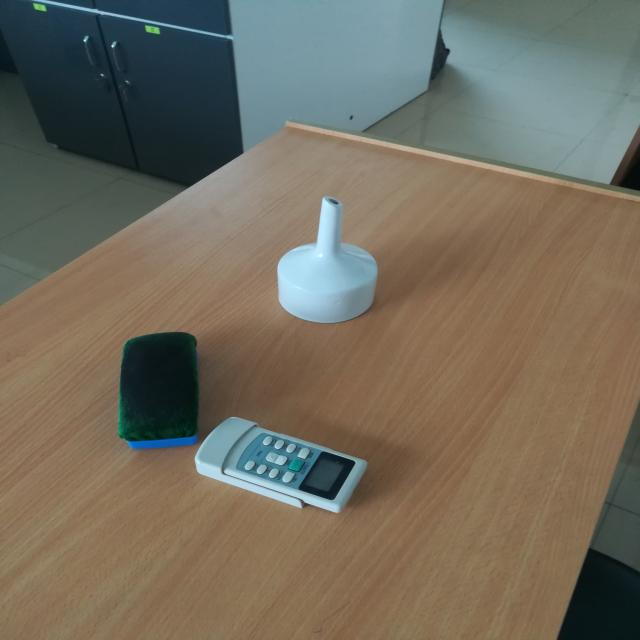Buchner_Funnel: (252, 182, 416, 338)
